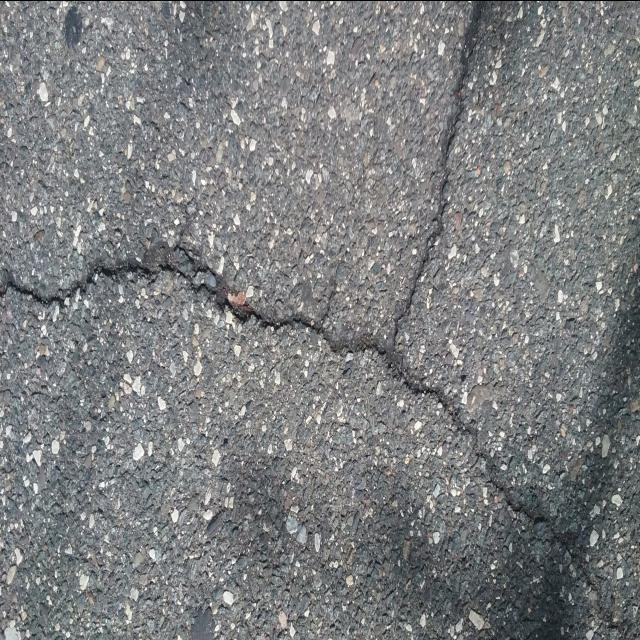Crack: (0, 242, 571, 547), (391, 0, 486, 340)
